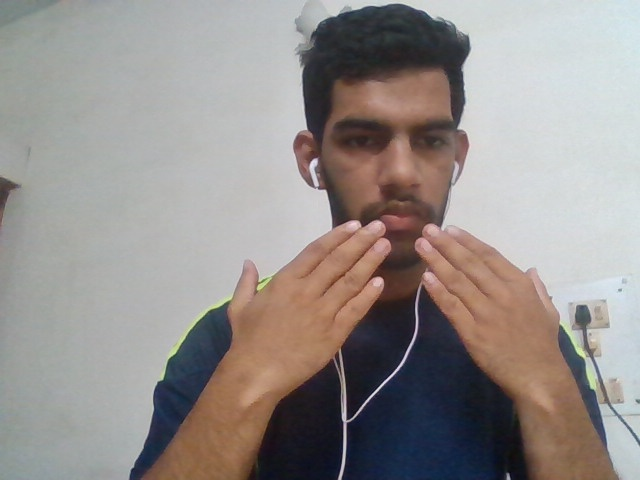thanks: (208, 217, 622, 388)
